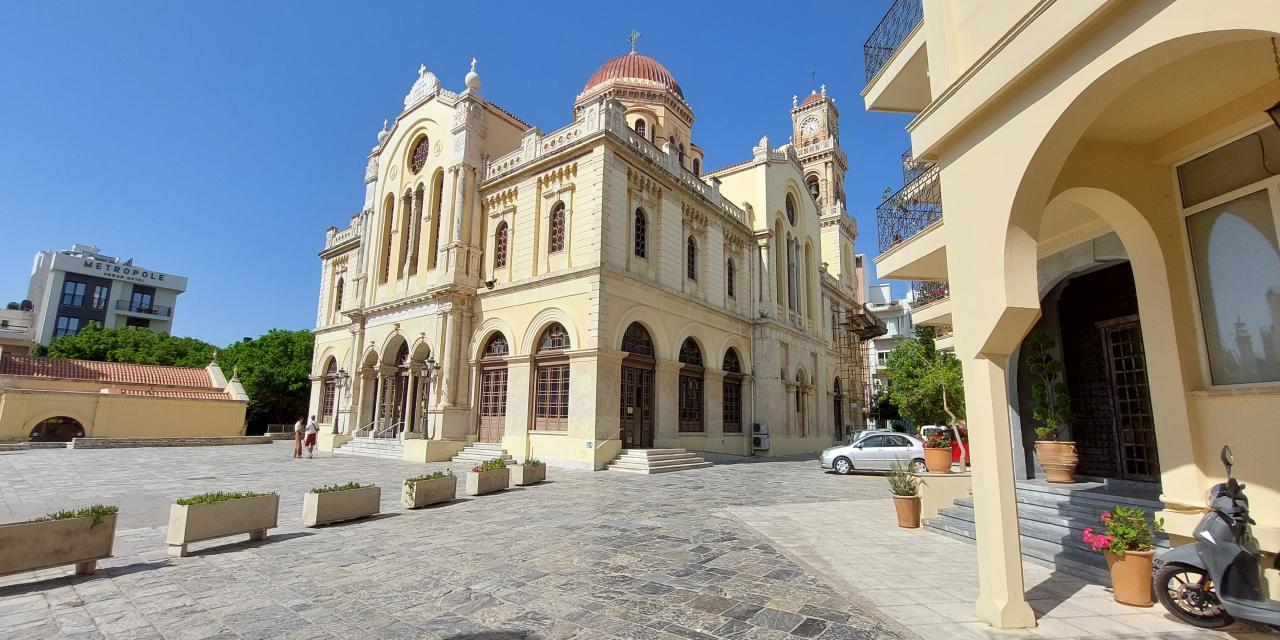Agios Minas: (308, 15, 875, 470)
